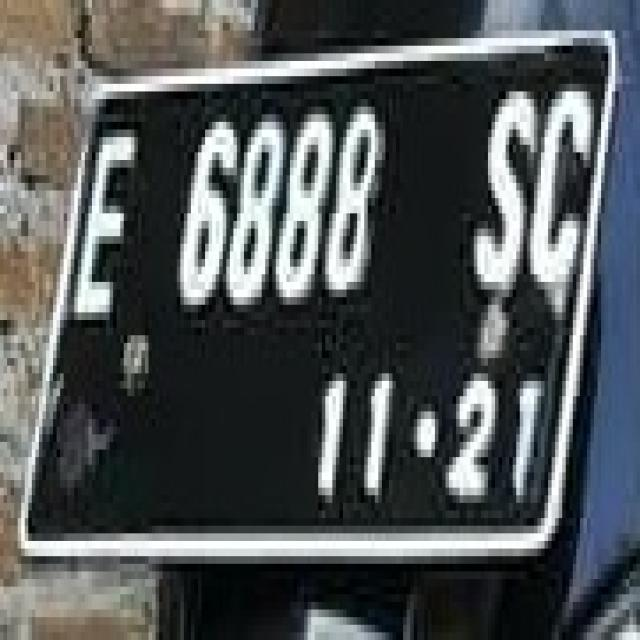plate: (18, 54, 604, 556)
